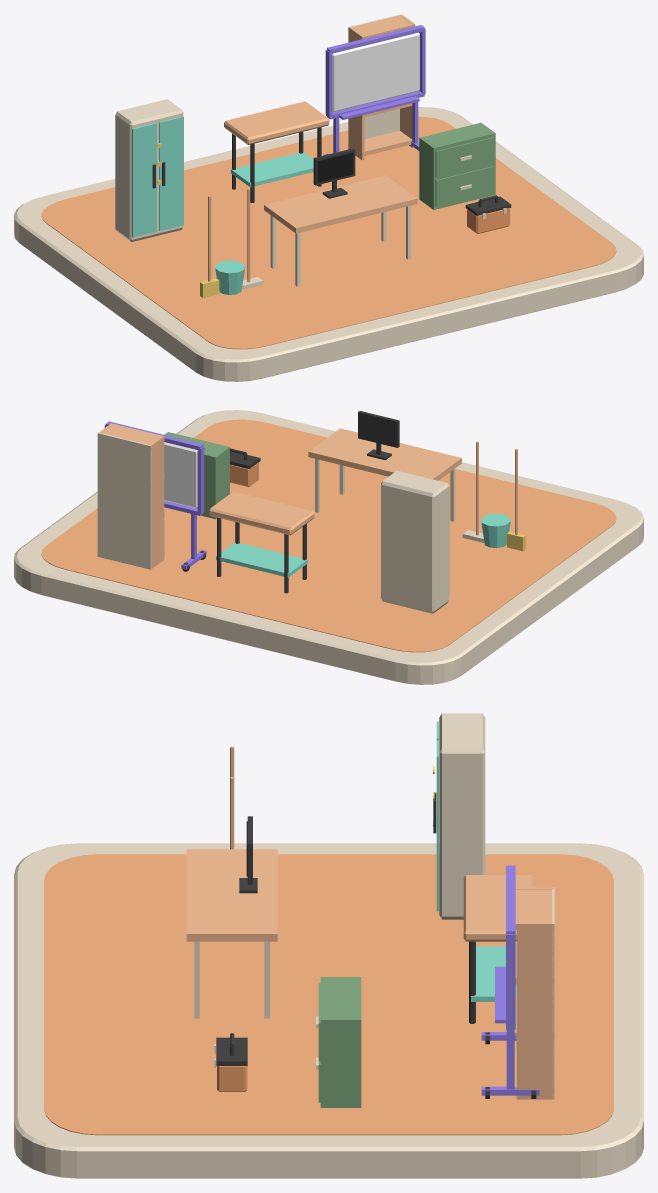
The model's file is room.fbx.
3 renders of one model, top to bottom at view 1: azimuth 30°, elevation 25°; view 2: azimuth 150°, elevation 25°; view 3: azimuth 270°, elevation 25°, orthographic. The views are drawn at different scales.
Visible parts, largest first — view 1: COM-02 Floor Surface, COM-01 Rounded Base Direct, Top, Cabinet, Writing surface, Equipment case, Door, Worktop, Door.001, Lower shelf, Frame, Back (+7 smaller); view 2: COM-02 Floor Surface, COM-01 Rounded Base Direct, Equipment case, Back, Top, Worktop, Writing surface, Cabinet, Lower shelf, Side, Frame, Bucket (+4 smaller); view 3: COM-02 Floor Surface, COM-01 Rounded Base Direct, Top, Equipment case, Side.001, Cabinet, Worktop, Shelf.003, Lower shelf, Frame upright.001, Lid, Box (+2 smaller).
Boxes of the visible parts, left/top/right/bottom form: COM-02 Floor Surface: left=41, top=116, right=616, bottom=349; COM-01 Rounded Base Direct: left=14, top=107, right=643, bottom=381; Top: left=264, top=175, right=417, bottom=286; Cabinet: left=419, top=122, right=495, bottom=209; Writing surface: left=332, top=32, right=419, bottom=111; Equipment case: left=115, top=99, right=183, bottom=241; Door: left=132, top=123, right=156, bottom=237; Worktop: left=224, top=101, right=329, bottom=144; Door.001: left=159, top=116, right=183, bottom=230; Lower shelf: left=231, top=152, right=313, bottom=187; Frame: left=313, top=148, right=355, bottom=198; Back: left=348, top=14, right=402, bottom=149; COM-02 Floor Surface: left=41, top=419, right=616, bottom=652; COM-01 Rounded Base Direct: left=14, top=410, right=643, bottom=684; Equipment case: left=381, top=470, right=448, bottom=613; Back: left=97, top=432, right=151, bottom=569; Top: left=308, top=428, right=461, bottom=521; Worktop: left=209, top=491, right=314, bottom=535; Writing surface: left=164, top=442, right=197, bottom=508; Cabinet: left=164, top=432, right=229, bottom=519; Lower shelf: left=216, top=542, right=307, bottom=577; Side: left=149, top=435, right=164, bottom=568; Frame: left=358, top=411, right=399, bottom=460; Bucket: left=481, top=513, right=510, bottom=548; COM-02 Floor Surface: left=44, top=854, right=613, bottom=1135; COM-01 Rounded Base Direct: left=14, top=843, right=643, bottom=1178; Top: left=186, top=849, right=277, bottom=1018; Equipment case: left=439, top=713, right=485, bottom=919; Side.001: left=516, top=922, right=553, bottom=1099; Cabinet: left=316, top=977, right=361, bottom=1107; Worktop: left=463, top=875, right=533, bottom=941; Shelf.003: left=515, top=887, right=553, bottom=930; Lower shelf: left=471, top=946, right=516, bottom=1001; Frame upright.001: left=506, top=934, right=515, bottom=1027; Lid: left=216, top=1037, right=247, bottom=1065; Box: left=217, top=1066, right=247, bottom=1091.
Size of the model in its own units: 600 by 190 by 520.
